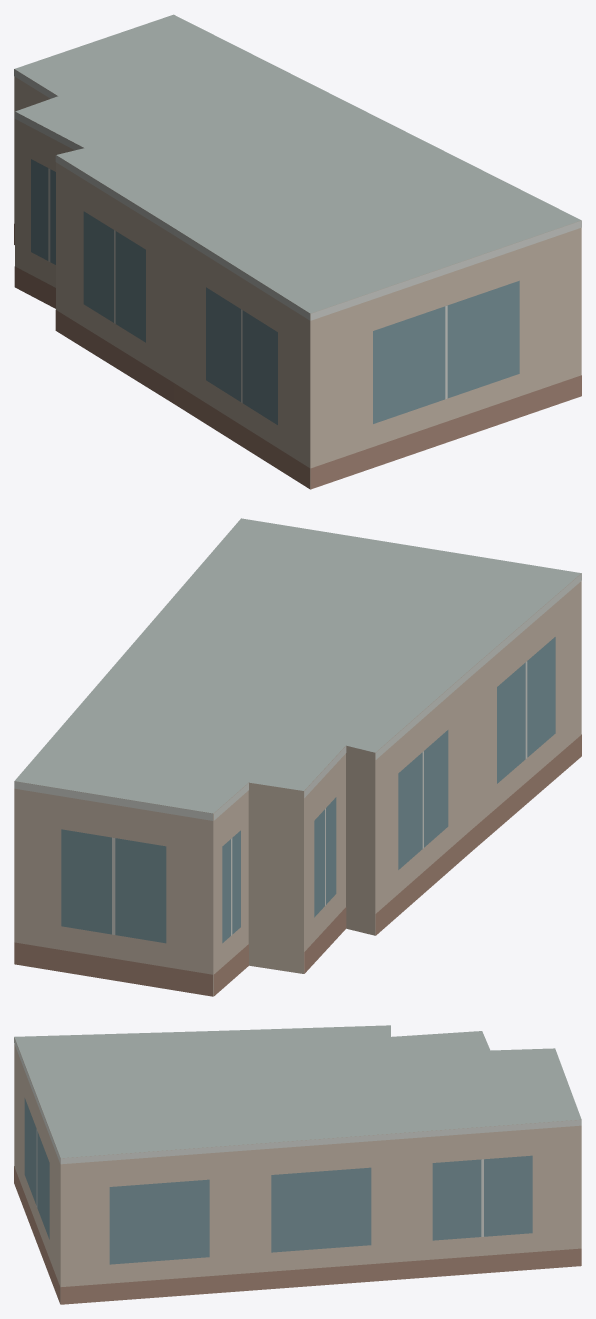
Rendered from survey-upis-32926632.glb.
3 views of the same model, one above another, from view 1: azimuth 30°, elevation 25°; view 2: azimuth 150°, elevation 25°; view 3: azimuth 270°, elevation 25° (orthographic). The views are drawn at different scales.
Parts seen in each view (by area): view 1: survey-upis-32926632.tmp; view 2: survey-upis-32926632.tmp; view 3: survey-upis-32926632.tmp.
Boxes of the visible parts, left/top/right/bottom form: survey-upis-32926632.tmp: left=14, top=14, right=581, bottom=489; survey-upis-32926632.tmp: left=14, top=518, right=581, bottom=996; survey-upis-32926632.tmp: left=14, top=1025, right=581, bottom=1304.
Size of the model in its own units: 5.96 by 3.05 by 10.73.
